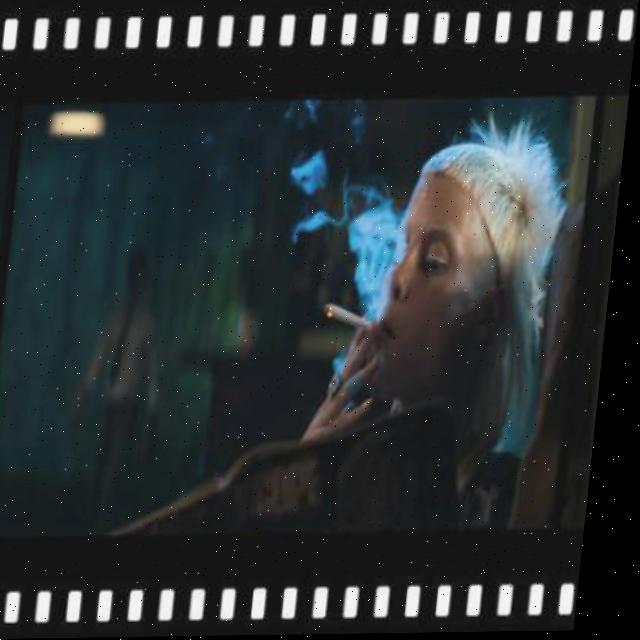cigarette: (329, 301, 381, 334)
